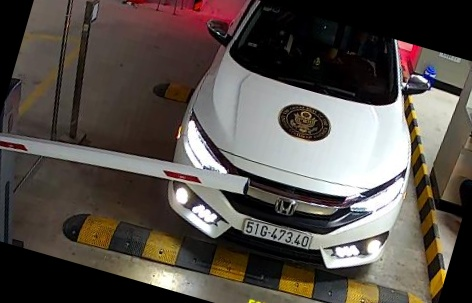plate: (239, 219, 319, 258)
